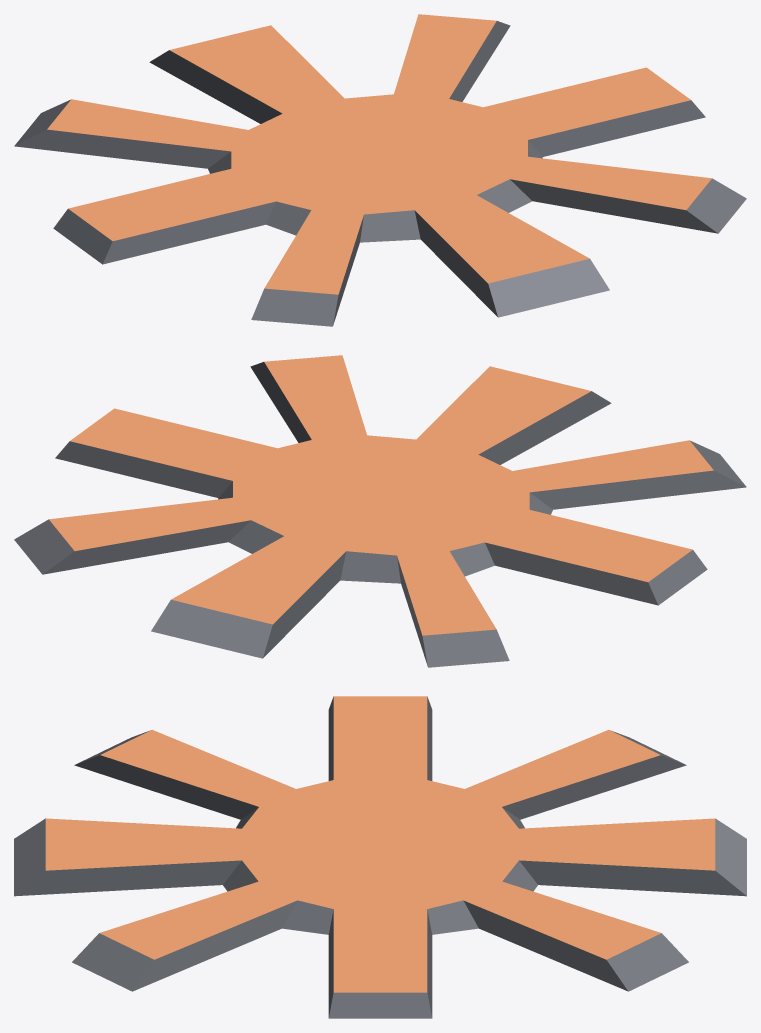
File: levelen6.fbx
3 views of the same model, one above another, from view 1: azimuth 30°, elevation 25°; view 2: azimuth 150°, elevation 25°; view 3: azimuth 270°, elevation 25° (orthographic). The views are drawn at different scales.
Parts seen in each view (by area): view 1: road.006; view 2: road.006; view 3: road.006.
Part boxes in pixels (bbox=[...]): road.006: bbox=[14, 14, 746, 326]; road.006: bbox=[14, 355, 746, 667]; road.006: bbox=[14, 696, 746, 1018].
Size of the model in its own units: 62.67 by 2.18 by 62.78.
